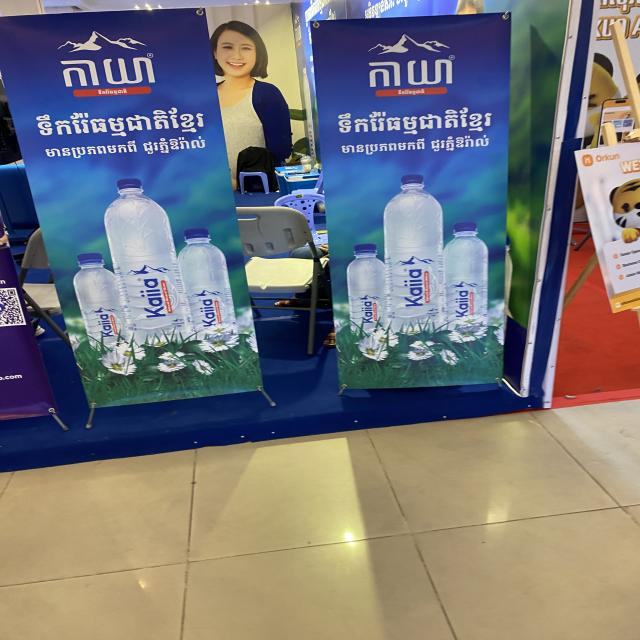1: (43, 133, 210, 162), (335, 132, 493, 157)
Yolov11_80vkh: (21, 104, 209, 141), (331, 105, 493, 140), (50, 48, 163, 90), (367, 52, 462, 90), (95, 87, 132, 97), (396, 88, 428, 95)
